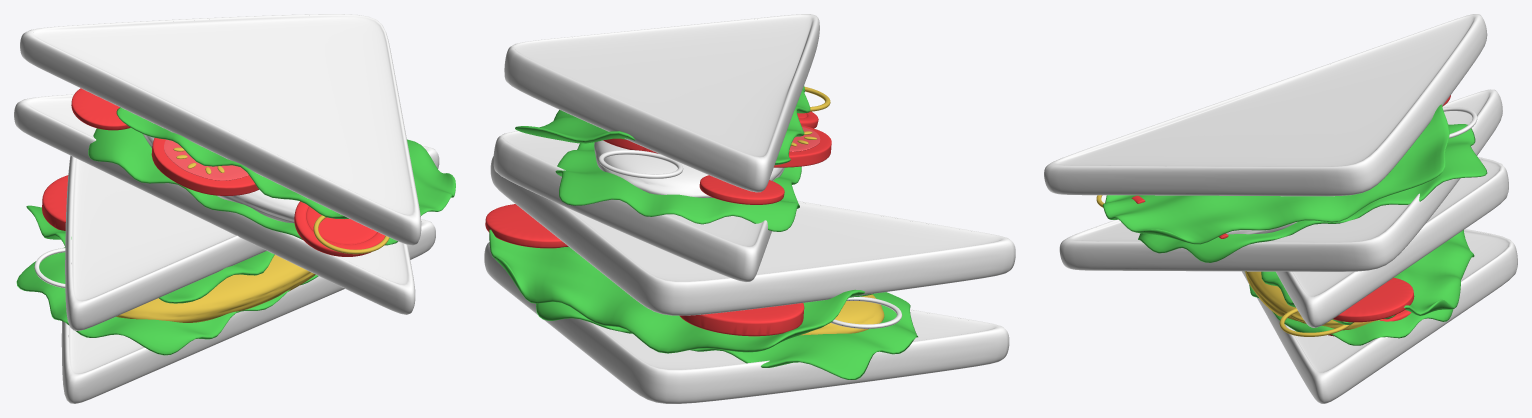
File: sandwich-3d-animated-icon-615447088876.glb
The picture shows the model from 3 angles, left to right: view 1: azimuth 30°, elevation 25°; view 2: azimuth 150°, elevation 25°; view 3: azimuth 270°, elevation 25°; orthographic projection. The views are drawn at different scales.
Parts seen in each view (by area): view 1: Cube.003, Filler, Cube, Cube.004, Plane, Plane.002, Sliced Tomato, Cylinder.004, Cylinder.014, Cube.001, Cylinder.006; view 2: Filler, Cube.003, Cube, Plane.002, Cube.001, Plane, Cylinder.014, Cube.004, Sliced Tomato, Cylinder.012; view 3: Cube.003, Filler, Cube, Plane, Plane.002, Cube.004.
Boxes of the visible parts, left/top/right/bottom form: Cube.003: left=20, top=14, right=421, bottom=245; Filler: left=16, top=146, right=439, bottom=403; Cube: left=14, top=94, right=415, bottom=314; Cube.004: left=116, top=255, right=315, bottom=322; Plane: left=116, top=107, right=455, bottom=219; Plane.002: left=88, top=128, right=420, bottom=245; Sliced Tomato: left=151, top=138, right=258, bottom=195; Cylinder.004: left=294, top=201, right=384, bottom=256; Cylinder.014: left=71, top=88, right=130, bottom=130; Cube.001: left=143, top=134, right=299, bottom=223; Cylinder.006: left=313, top=215, right=389, bottom=254; Filler: left=484, top=156, right=1015, bottom=403; Cube.003: left=504, top=14, right=819, bottom=192; Cube: left=493, top=131, right=771, bottom=281; Plane.002: left=555, top=142, right=801, bottom=231; Cube.001: left=594, top=140, right=784, bottom=197; Plane: left=515, top=86, right=810, bottom=165; Cylinder.014: left=699, top=175, right=784, bottom=204; Cube.004: left=799, top=294, right=884, bottom=335; Sliced Tomato: left=774, top=125, right=831, bottom=167; Cylinder.012: left=598, top=150, right=683, bottom=178; Cube.003: left=1044, top=14, right=1487, bottom=196; Filler: left=1242, top=157, right=1517, bottom=403; Cube: left=1059, top=89, right=1502, bottom=271; Plane: left=1102, top=104, right=1449, bottom=244; Plane.002: left=1138, top=124, right=1487, bottom=262; Cube.004: left=1245, top=271, right=1382, bottom=330.
Size of the model in its own units: 5.79 by 3.37 by 5.72.
